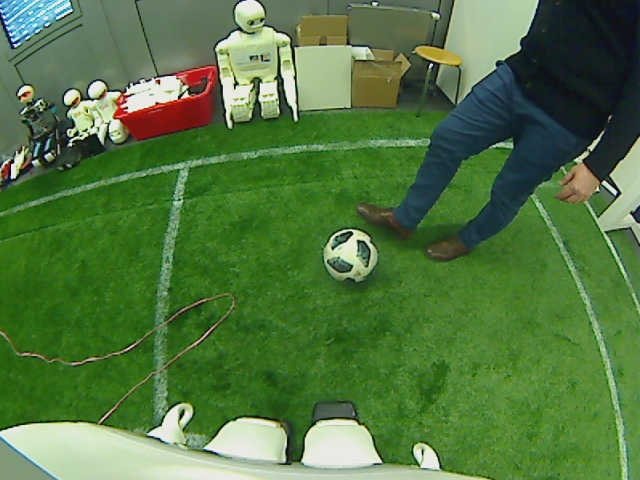ball: (322, 227, 379, 283)
